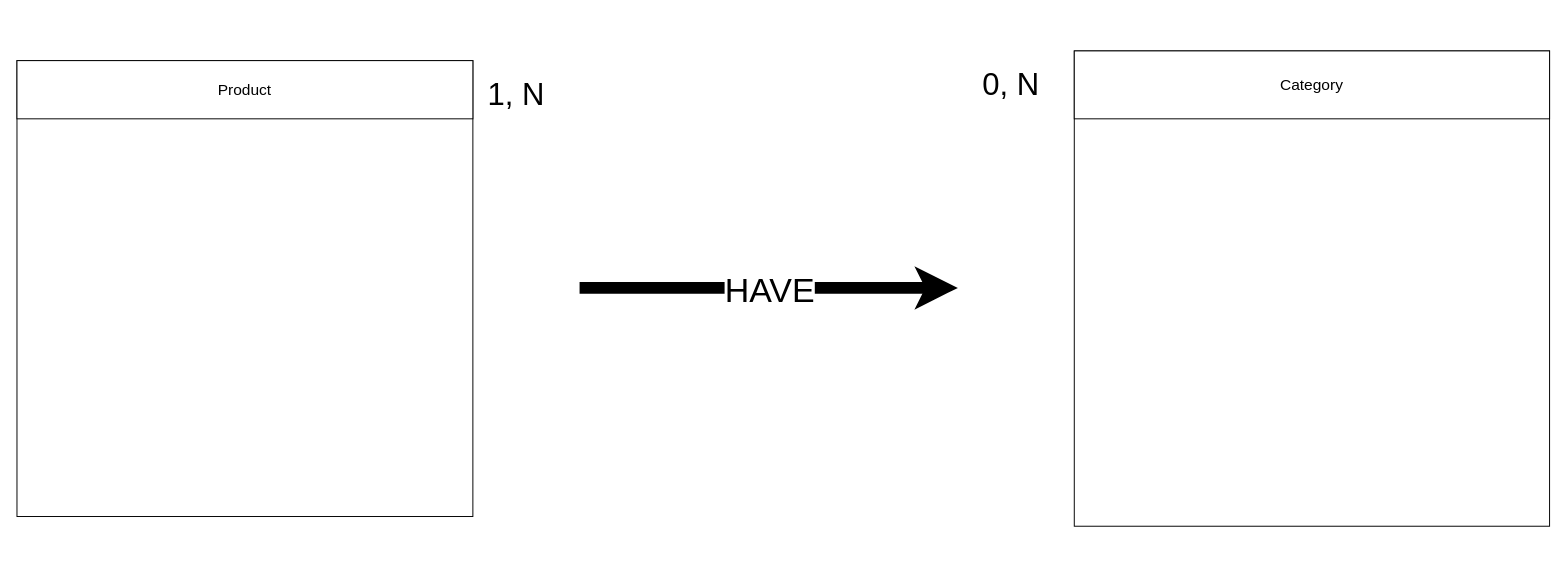
Some shapes in this 1567 by 577 pixel diagram are drawn without their labels. Here are the shapes that lost their labels. From the top down, the box of each, then its label:
(16, 60, 473, 517): - id - name - photos - price - description - quantity - createdAt - updatedAt
(1073, 50, 1550, 526): - id - name - description - createdAt - updatedAt - category_id
